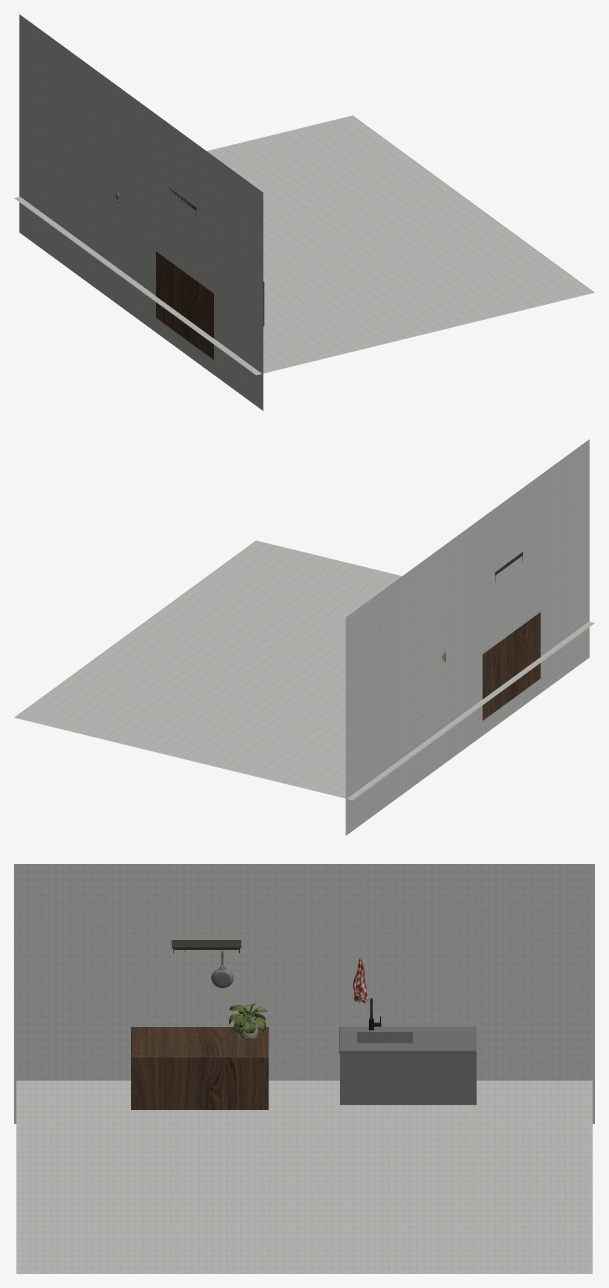
The model's file is additionals.glb.
3 renders of one model, top to bottom at view 1: azimuth 30°, elevation 25°; view 2: azimuth 150°, elevation 25°; view 3: azimuth 270°, elevation 25°, orthographic. The views are drawn at different scales.
Parts seen in each view (by area): view 1: Wall.001, Wall, BenchLeft; view 2: Wall.001, Wall, BenchLeft; view 3: Wall, Wall.001, BenchLeft, BenchRight, Indoor Table Plant, Cube.010.
Boxes of the visible parts, x1=… form: Wall.001: x1=14, y1=115, x2=594, y2=375; Wall: x1=19, y1=14, x2=263, y2=410; BenchLeft: x1=156, y1=251, x2=264, y2=359; Wall.001: x1=14, y1=540, x2=594, y2=800; Wall: x1=345, y1=439, x2=589, y2=835; BenchLeft: x1=482, y1=612, x2=540, y2=720; Wall: x1=14, y1=864, x2=594, y2=1123; Wall.001: x1=16, y1=1080, x2=592, y2=1273; BenchLeft: x1=131, y1=1027, x2=268, y2=1109; BenchRight: x1=339, y1=1026, x2=476, y2=1104; Indoor Table Plant: x1=229, y1=1003, x2=267, y2=1040; Cube.010: x1=171, y1=940, x2=241, y2=948.
Bounding box in the file's own units: 13.43 × 8.27 × 16.74.
13 materials, 5 textured.
